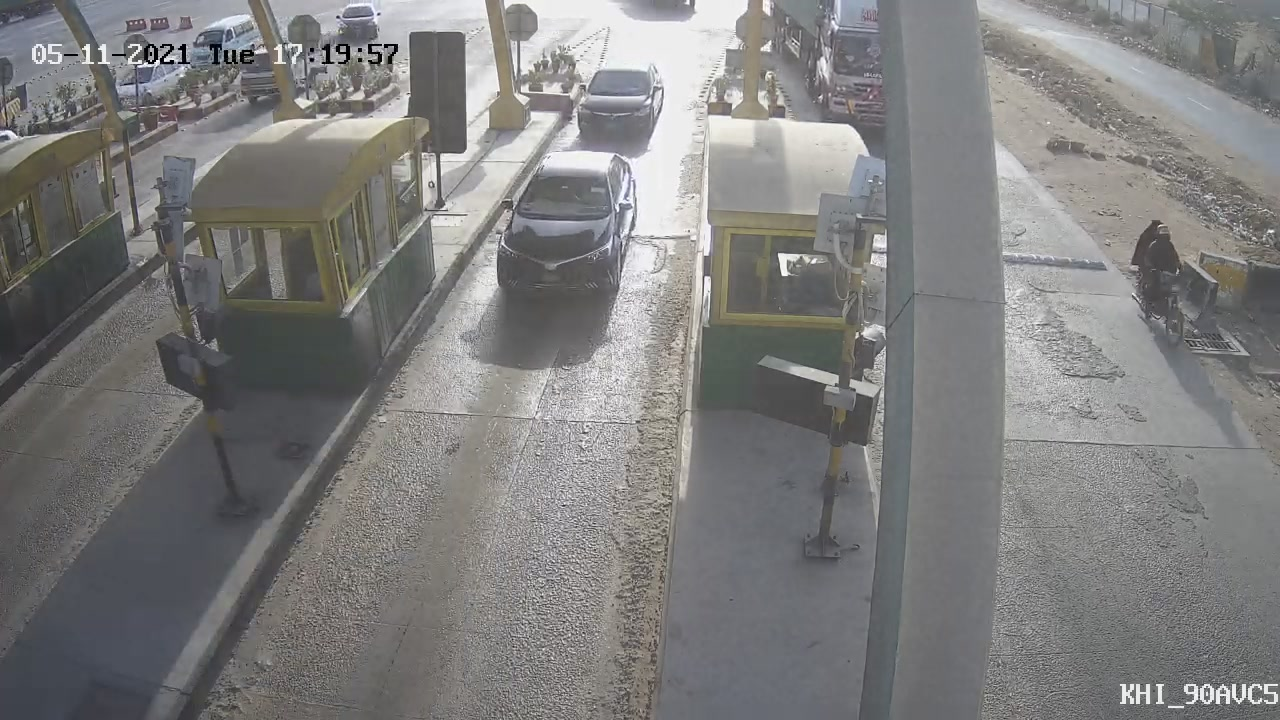F1: (470, 131, 656, 317), (560, 46, 673, 152)
